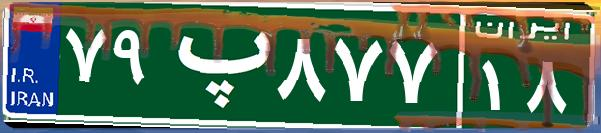1: (475, 38, 525, 113)
7: (385, 28, 445, 110), (330, 28, 385, 110), (57, 26, 110, 107)
8: (273, 28, 330, 110), (525, 38, 570, 115)
9: (110, 28, 158, 105)
پ: (158, 15, 273, 115)
